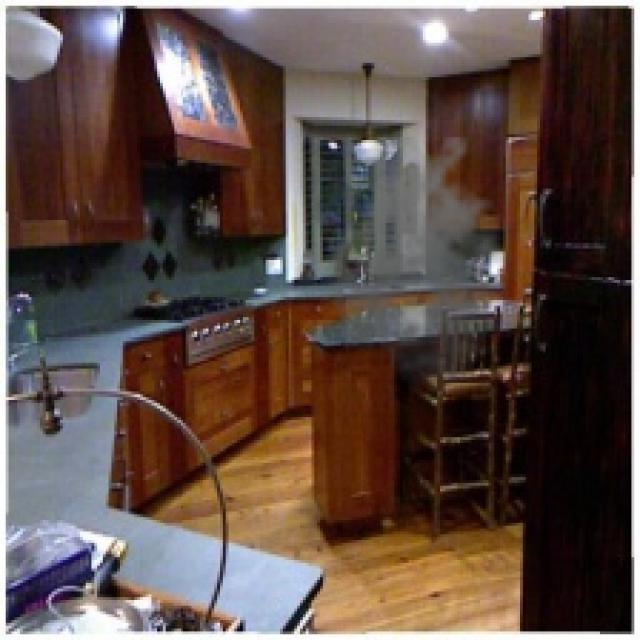Smoke: (317, 137, 526, 389)
